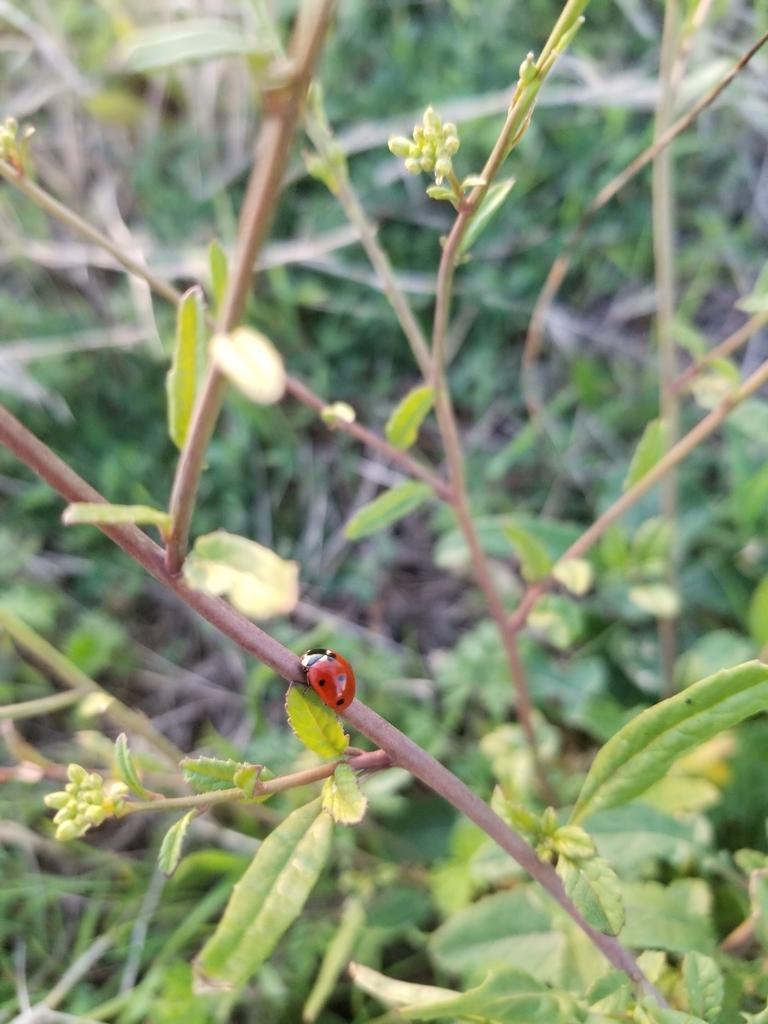ladybug: (292, 646, 357, 712)
